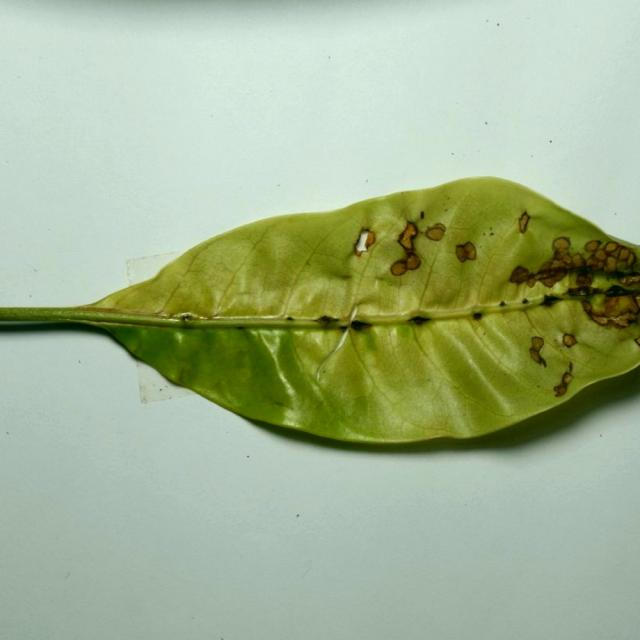Anthracnose: (582, 293, 638, 328), (390, 221, 422, 276), (351, 228, 378, 268), (553, 362, 574, 396), (528, 335, 546, 367), (454, 242, 477, 263), (508, 266, 531, 285), (425, 223, 446, 241), (518, 211, 531, 234), (553, 236, 570, 252), (403, 221, 417, 240), (562, 333, 578, 348)
Mango: (0, 177, 639, 452)
